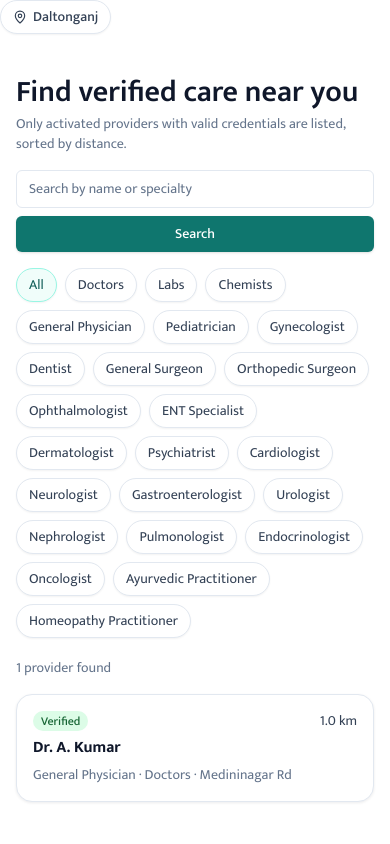
FindCareBrowser location selector (#510) › opens the single-city picker sheet with the coming-soon note
This screenshot has width=390, height=844.
Step 1. Click the button with test id "location-chip-feed" → click(56, 17), box [0,0,111,34]
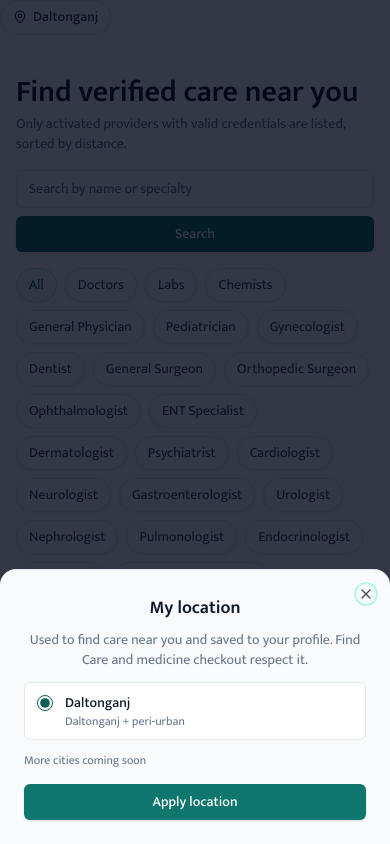
Expected: the dialog with test id "location-sheet" shows "Daltonganj", [65,691,130,714]
Expected: the dialog with test id "location-sheet" shows "Daltonganj + peri-urban", [65,711,185,731]
Expected: the dialog with test id "location-sheet" shows "More cities coming soon", [24,750,146,770]
